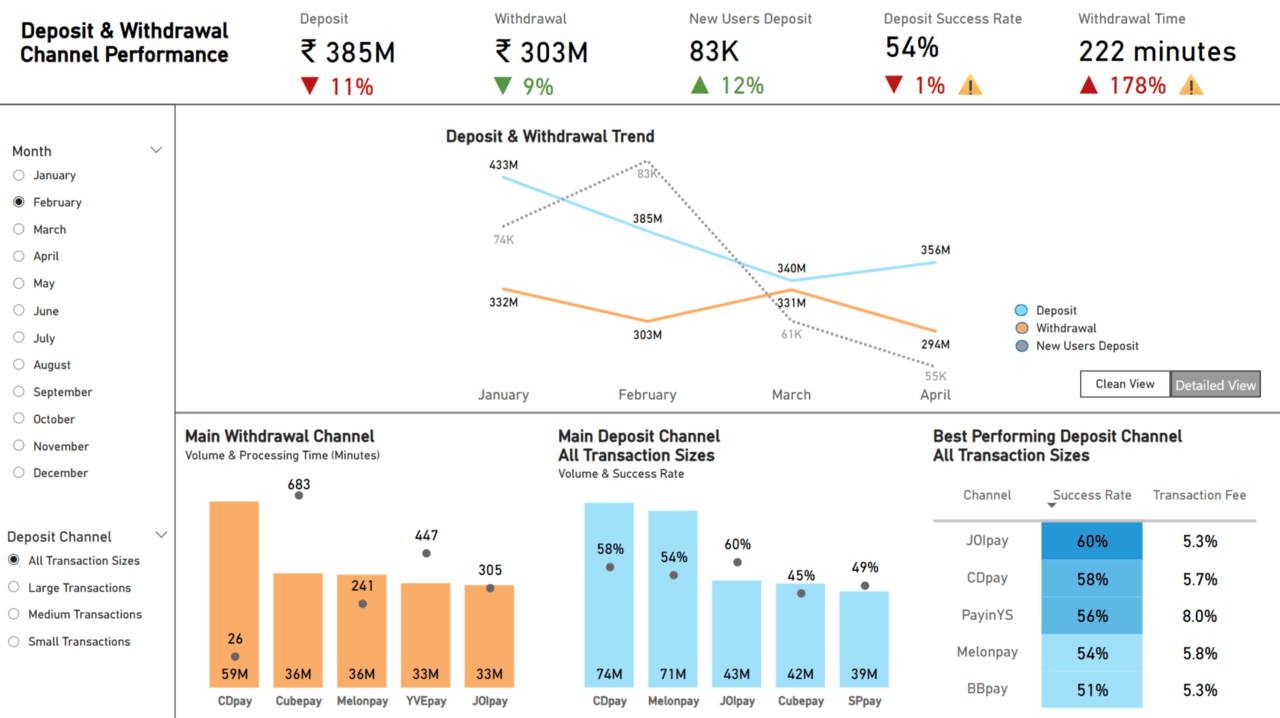

This screenshot's page, from the dashboard's own definition file:
{"tool":"powerbi","page":{"name":"Dashboard","canvas":[1280,720],"ordinal":0},"visuals":[{"type":"cardVisual","fields":{"Data":["measure_table.Total Deposit","measure_table.Total Withdrawal","measure_table.Total New Players","measure_table.Success Rate","measure_table.Withdrawal Processing Time"]},"box":[15.6,63.4,1247.7,114.4],"z":0,"group":"g2"},{"type":"textbox","box":[15,375,205,55],"z":0,"group":"g14"},{"type":"textbox","box":[671.7,378,205,55],"z":0,"group":"g10"},{"type":"shape","box":[28,453.5,1227.2,250.2],"z":0},{"type":"shape","box":[0,0,1280,67],"z":1000},{"type":"shape","box":[34.2,397,12.9,12],"z":1000,"group":"g14"},{"type":"shape","box":[690.9,400,12.9,12],"z":1000,"group":"g10"},{"type":"textbox","box":[27.8,459.3,400,45],"z":1000,"group":"g9"},{"type":"shape","box":[34.2,415,12.9,12],"z":2000,"group":"g14"},{"type":"shape","box":[690.9,418,12.9,12],"z":2000,"group":"g10"},{"type":"textbox","box":[755,459,450,45],"z":2000},{"type":"textbox","box":[27,482,160,25],"z":3000},{"type":"advancedSlicerVisual","title":"2025","fields":{"Values":["date_table.Month"]},"box":[1041.7,5.8,238.3,55],"z":4000},{"type":"textbox","box":[19.2,5.8,380.8,57.5],"z":5000},{"type":"group","id":"g1","title":"Group 12","box":[671.7,186,583.5,250],"z":5000,"group":"g6"},{"type":"group","id":"g2","title":"Group 4","box":[15.6,63.4,1247.7,114.4],"z":6000},{"type":"group","id":"g3","title":"Group 13","box":[27.8,459.3,539.2,241.8],"z":6000,"group":"g17"},{"type":"textbox","box":[798,132,53,25],"z":7000},{"type":"group","id":"g4","title":"Group 14","box":[26.9,186,621.7,250],"z":7000,"group":"g18"},{"type":"group","id":"g5","title":"Group 11","box":[26.9,186,621.7,250],"z":7000,"group":"g4"},{"type":"card","fields":{"Values":["measure_table.Card: New Player MoM Arrow"]},"box":[656.3,140.4,80.8,25],"z":8000,"group":"g2"},{"type":"group","id":"g6","title":"Group 2","box":[671.7,186,583.5,250],"z":8000},{"type":"group","id":"g7","title":"Group 1","box":[679.9,186,575.3,250],"z":8000,"group":"g1"},{"type":"group","id":"g8","title":"Group 6","box":[15,375,205,55],"z":8000,"group":"g18"},{"type":"group","id":"g9","title":"Group 10","box":[27.8,459.3,400,45],"z":8501,"group":"g12"},{"type":"group","id":"g10","title":"Group 6","box":[671.7,378,205,55],"z":9000,"group":"g1"},{"type":"textbox","box":[755,640.8,149.2,59.2],"z":9000},{"type":"group","id":"g11","title":"Group 7","box":[679.9,186,575.3,250],"z":9001,"group":"g7"},{"type":"group","id":"g12","title":"Group 9","box":[27.8,459.3,400,45],"z":9001,"group":"g19"},{"type":"shape","box":[26.9,186,600,250],"z":9500,"group":"g5"},{"type":"group","id":"g13","title":"Group 5","box":[402.6,142.3,91.7,22.5],"z":10000,"group":"g2"},{"type":"shape","box":[679.9,186,575.3,250],"z":10000,"group":"g11"},{"type":"textbox","box":[28.1,189,205,50],"z":10000,"group":"g4"},{"type":"pivotTable","title":"Top 5 Deposit Channel Recommendation","fields":{"Rows":["deposit_2025.third_party"],"Values":["measure_table.Success Rate","measure_table.Tax Rate"]},"box":[915.8,483,310,204.2],"z":10000},{"type":"group","id":"g14","title":"Group 15","box":[15,375,205,55],"z":10502,"group":"g8"},{"type":"group","id":"g15","title":"Group 16","box":[15,186,633.6,250],"z":11000},{"type":"textbox","box":[680.5,190.7,205,50],"z":11000,"group":"g11"},{"type":"textbox","box":[28.6,664.2,135.4,36.9],"z":11000,"group":"g3"},{"type":"lineClusteredColumnComboChart","fields":{"Category":["withdrawal_2025.third_party"],"Y":["Sum(withdrawal_2025.total_withdrawal)"],"Y2":["measure_table.Withdrawal Processing Time"]},"box":[888.4,192.2,360,240],"z":12000,"group":"g7"},{"type":"group","id":"g16","title":"Group 18","box":[27.8,459.3,539.2,241.8],"z":12000},{"type":"shape","box":[37,686,12.9,12],"z":12000,"group":"g17"},{"type":"areaChart","title":"Deposit & Withdrawal Trend","fields":{"Category":["date_table.Month"],"Y":["Sum(deposit_2025.total_deposit_amount)","Sum(withdrawal_2025.total_withdrawal)"],"Y2":["Sum(new_player_2025.total_new_players)"]},"box":[178.6,191,470,240],"z":13000,"group":"g5"},{"type":"slicer","title":"Channel Capacity","fields":{"Values":["deposit_2025.third_party_category"]},"box":[568.2,459.1,159.1,60],"z":13000},{"type":"group","id":"g17","title":"Group 17","box":[27.8,459.3,539.2,241.8],"z":13001,"group":"g16"},{"type":"group","id":"g18","title":"Group 8","box":[15,186,633.6,250],"z":14000,"group":"g15"},{"type":"shape","box":[37,669,12.9,12],"z":14000},{"type":"shape","box":[34,379,12.9,12],"z":14500,"group":"g15"},{"type":"textbox","box":[462.6,5.8,469.2,57.7],"z":15000},{"type":"card","fields":{"Values":["measure_table.Card: MoM Success Rate"]},"box":[882,140.4,111.6,25],"z":15000,"group":"g2"},{"type":"group","id":"g19","title":"Group 3","box":[27.8,459.3,539.2,240.9],"z":15003,"group":"g3"},{"type":"card","fields":{"Values":["measure_table.Card: Withdrawal Mom Arrow"]},"box":[402.6,142.3,91.7,22.5],"z":15750,"group":"g13"},{"type":"card","fields":{"Values":["measure_table.Card: MoM Withdrawal Processing Time"]},"box":[1106.9,140.4,139.9,25],"z":18000,"group":"g2"},{"type":"lineClusteredColumnComboChart","title":"Top 5 Deposit Payment Categories Per Categories","fields":{"Category":["deposit_2025.third_party"],"Series":["deposit_2025.third_party_category"],"Y2":["measure_table.Success Rate"],"Y":["Sum(deposit_2025.total_deposit_amount)"]},"box":[190,459.9,377,240.3],"z":18001,"group":"g19"},{"type":"card","fields":{"Values":["measure_table.Card: Deposit Mom Arrow"]},"box":[138,142.3,105,22.5],"z":19000,"group":"g2"},{"type":"textbox","box":[1044.5,132.2,49.5,25],"z":23003,"group":"g2"}]}

Visuals, with their boxes in screenshot pixels (x1, y1, x2, y2), scaled from the page's 1280x720 canvas onto the 1280x718 screenshot:
cardVisual - measure_table.Total Deposit x measure_table.Total Withdrawal: [left=16, top=63, right=1263, bottom=177]
textbox: [left=15, top=374, right=220, bottom=429]
textbox: [left=672, top=377, right=877, bottom=432]
shape: [left=28, top=452, right=1255, bottom=702]
shape: [left=0, top=0, right=1279, bottom=67]
shape: [left=34, top=396, right=47, bottom=408]
shape: [left=691, top=399, right=704, bottom=411]
textbox: [left=28, top=458, right=428, bottom=503]
shape: [left=34, top=414, right=47, bottom=426]
shape: [left=691, top=417, right=704, bottom=429]
textbox: [left=755, top=458, right=1205, bottom=503]
textbox: [left=27, top=481, right=187, bottom=506]
"2025" advancedSlicerVisual: [left=1042, top=6, right=1279, bottom=61]
textbox: [left=19, top=6, right=400, bottom=63]
"Group 12" group: [left=672, top=185, right=1255, bottom=435]
"Group 4" group: [left=16, top=63, right=1263, bottom=177]
"Group 13" group: [left=28, top=458, right=567, bottom=699]
textbox: [left=798, top=132, right=851, bottom=157]
"Group 14" group: [left=27, top=185, right=649, bottom=435]
"Group 11" group: [left=27, top=185, right=649, bottom=435]
card - measure_table.Card: New Player MoM Arrow: [left=656, top=140, right=737, bottom=165]
"Group 2" group: [left=672, top=185, right=1255, bottom=435]
"Group 1" group: [left=680, top=185, right=1255, bottom=435]
"Group 6" group: [left=15, top=374, right=220, bottom=429]
"Group 10" group: [left=28, top=458, right=428, bottom=503]
"Group 6" group: [left=672, top=377, right=877, bottom=432]
textbox: [left=755, top=639, right=904, bottom=698]
"Group 7" group: [left=680, top=185, right=1255, bottom=435]
"Group 9" group: [left=28, top=458, right=428, bottom=503]
shape: [left=27, top=185, right=627, bottom=435]
"Group 5" group: [left=403, top=142, right=494, bottom=164]
shape: [left=680, top=185, right=1255, bottom=435]
textbox: [left=28, top=188, right=233, bottom=238]
"Top 5 Deposit Channel Recommendation" pivotTable: [left=916, top=482, right=1226, bottom=685]
"Group 15" group: [left=15, top=374, right=220, bottom=429]
"Group 16" group: [left=15, top=185, right=649, bottom=435]
textbox: [left=680, top=190, right=886, bottom=240]
textbox: [left=29, top=662, right=164, bottom=699]
lineClusteredColumnComboChart - withdrawal_2025.third_party x Sum(withdrawal_2025.total_withdrawal): [left=888, top=192, right=1248, bottom=431]
"Group 18" group: [left=28, top=458, right=567, bottom=699]
shape: [left=37, top=684, right=50, bottom=696]
"Deposit & Withdrawal Trend" areaChart: [left=179, top=190, right=649, bottom=430]
"Channel Capacity" slicer: [left=568, top=458, right=727, bottom=518]
"Group 17" group: [left=28, top=458, right=567, bottom=699]
"Group 8" group: [left=15, top=185, right=649, bottom=435]
shape: [left=37, top=667, right=50, bottom=679]
shape: [left=34, top=378, right=47, bottom=390]
textbox: [left=463, top=6, right=932, bottom=63]
card - measure_table.Card: MoM Success Rate: [left=882, top=140, right=994, bottom=165]
"Group 3" group: [left=28, top=458, right=567, bottom=698]
card - measure_table.Card: Withdrawal Mom Arrow: [left=403, top=142, right=494, bottom=164]
card - measure_table.Card: MoM Withdrawal Processing Time: [left=1107, top=140, right=1247, bottom=165]
"Top 5 Deposit Payment Categories Per Categories" lineClusteredColumnComboChart: [left=190, top=459, right=567, bottom=698]
card - measure_table.Card: Deposit Mom Arrow: [left=138, top=142, right=243, bottom=164]
textbox: [left=1044, top=132, right=1094, bottom=157]
